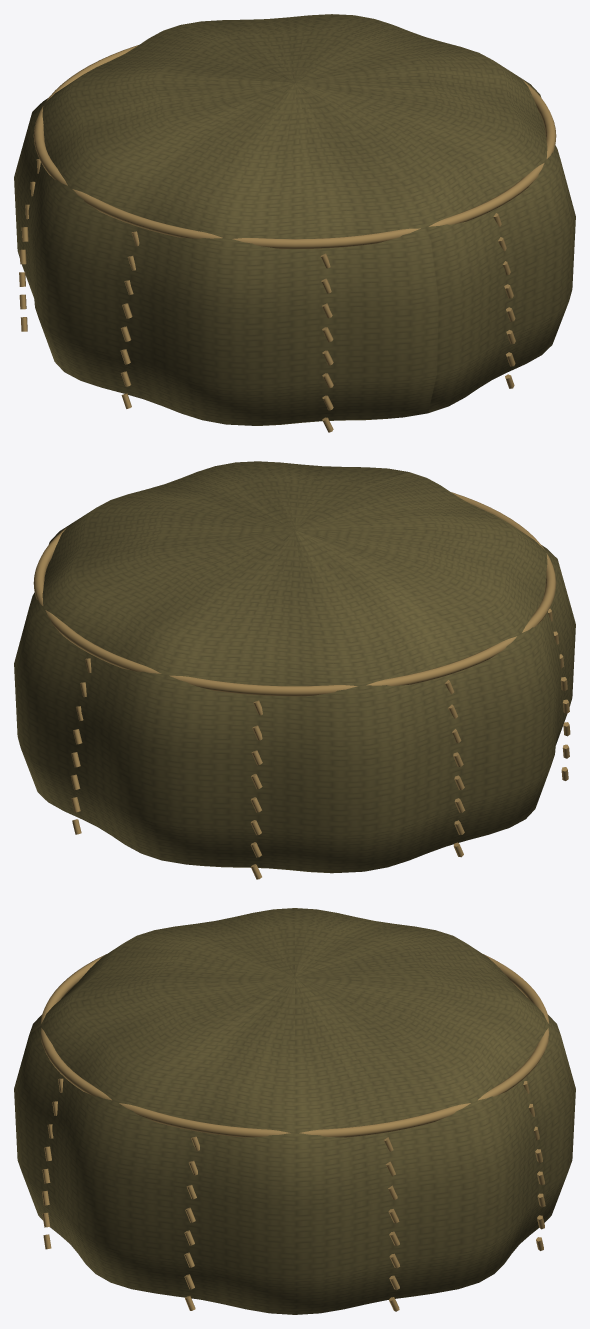
The model's file is pouf.glb.
3 views of the same model, one above another, from view 1: azimuth 30°, elevation 25°; view 2: azimuth 150°, elevation 25°; view 3: azimuth 270°, elevation 25° (orthographic). The views are drawn at different scales.
Visible parts, largest first — view 1: pouf; view 2: pouf; view 3: pouf.
Part boxes in pixels (left/top/right/bottom): pouf: left=14, top=14, right=575, bottom=432; pouf: left=14, top=461, right=575, bottom=879; pouf: left=14, top=908, right=575, bottom=1314.
Size of the model in its own units: 0.6494 by 0.32 by 0.6494.
Materials: 2 (1 with a texture image).
